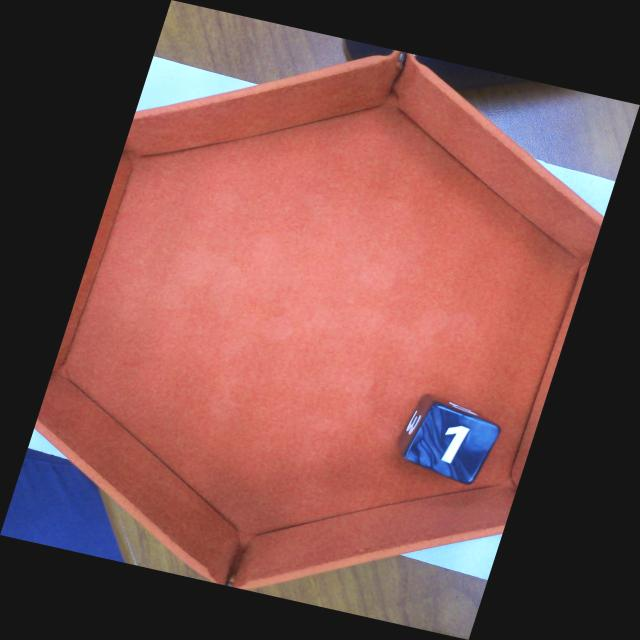dice: (398, 401, 503, 487)
